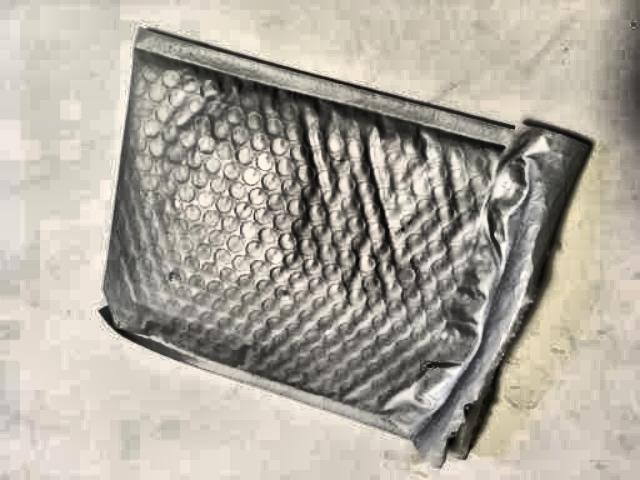Plastic: (71, 20, 603, 462)
